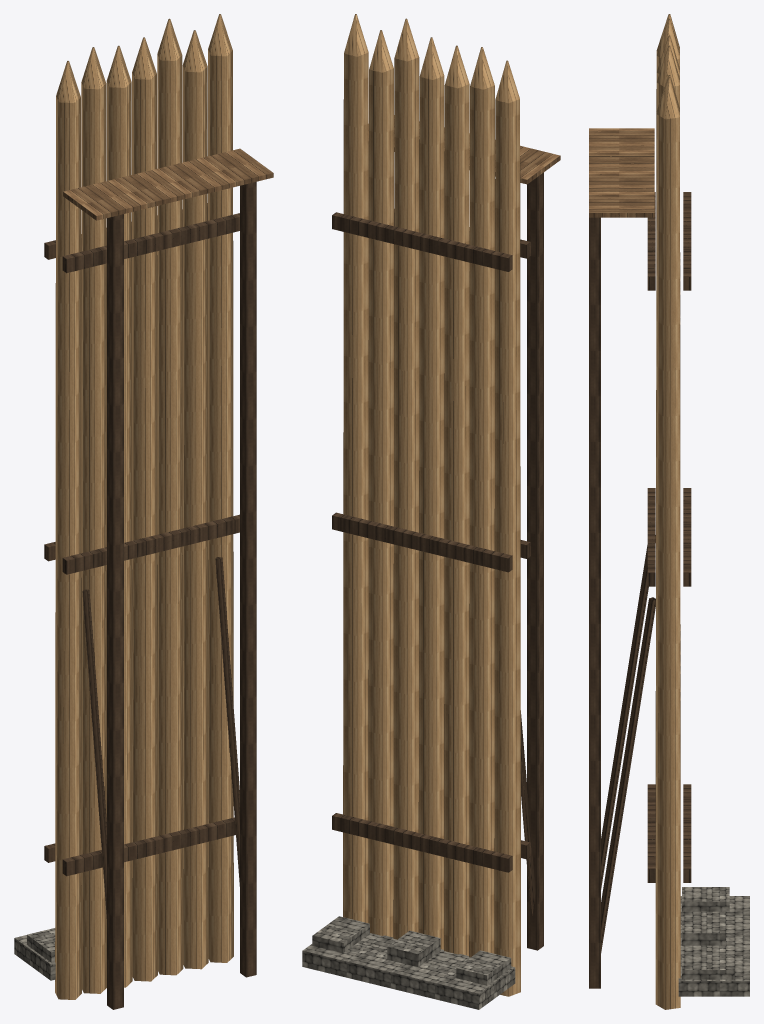
Rendered from Rampart_Wood_New_1_LOD1.gltf.
The picture shows the model from 3 angles, left to right: view 1: azimuth 30°, elevation 25°; view 2: azimuth 150°, elevation 25°; view 3: azimuth 270°, elevation 25°; orthographic projection.
Visible parts, largest first — view 1: Rampart_Wood_New_1_LOD1; view 2: Rampart_Wood_New_1_LOD1; view 3: Rampart_Wood_New_1_LOD1.
Part boxes in pixels (x1,y1,x2,y2): Rampart_Wood_New_1_LOD1: (14, 14, 273, 1009); Rampart_Wood_New_1_LOD1: (302, 14, 560, 1009); Rampart_Wood_New_1_LOD1: (589, 14, 749, 1009).
Size of the model in its own units: 4 by 20.5 by 3.2.
4 materials, 4 textured.
